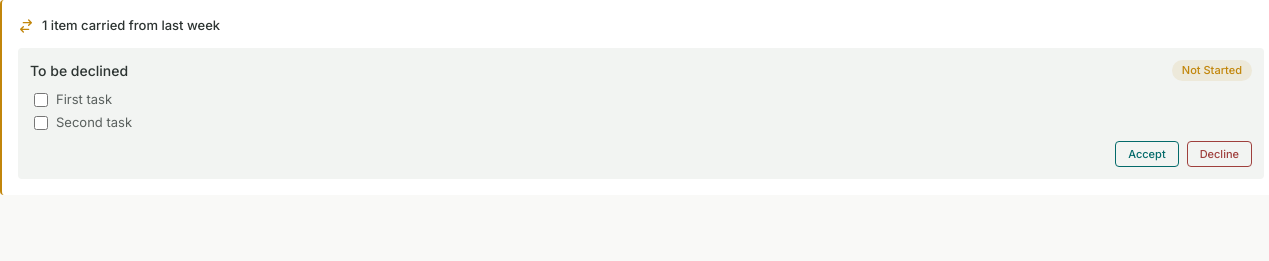
Test: CarryForwardPanel › decline interaction › shows confirmation UI when Decline is clicked
This screenshot has width=1269, height=261.
Click the button "Decline". click: (1219, 154)
box: [1187,141,1252,167]
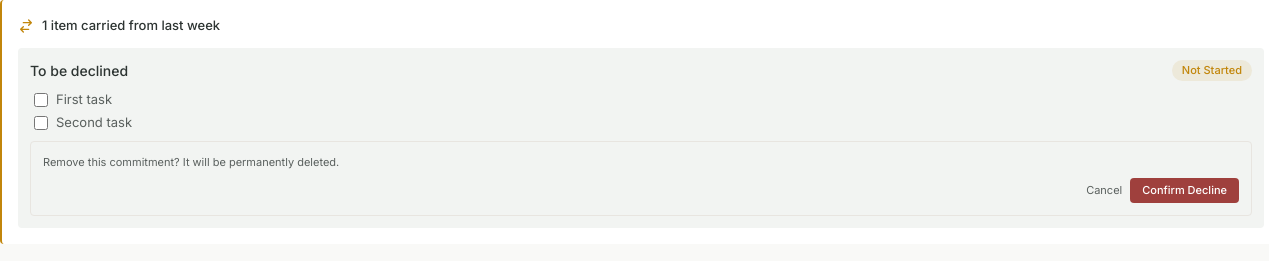
Now the text "Remove this commitment? It will be permanently deleted." is shown, box [43,155,339,169]
Now the button "Confirm Decline" is shown, box [1130,178,1239,203]
Now the button "Cancel" is shown, box [1086,182,1122,199]
